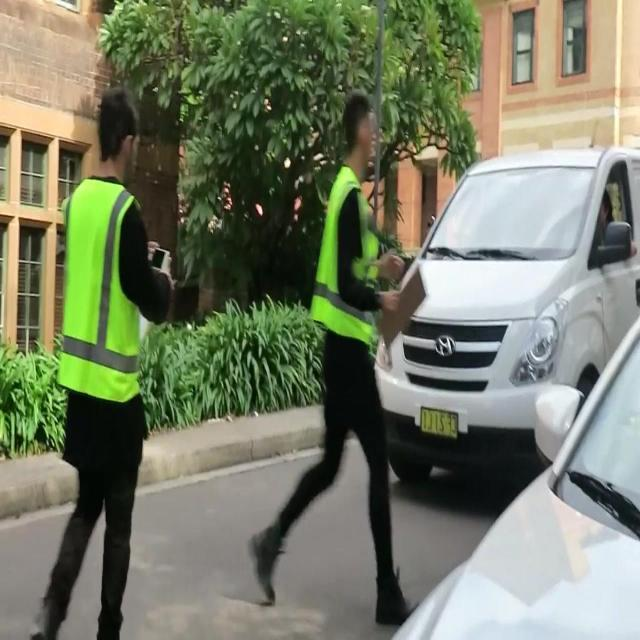Reflective-Jacket: (49, 174, 155, 422), (304, 159, 392, 364)
